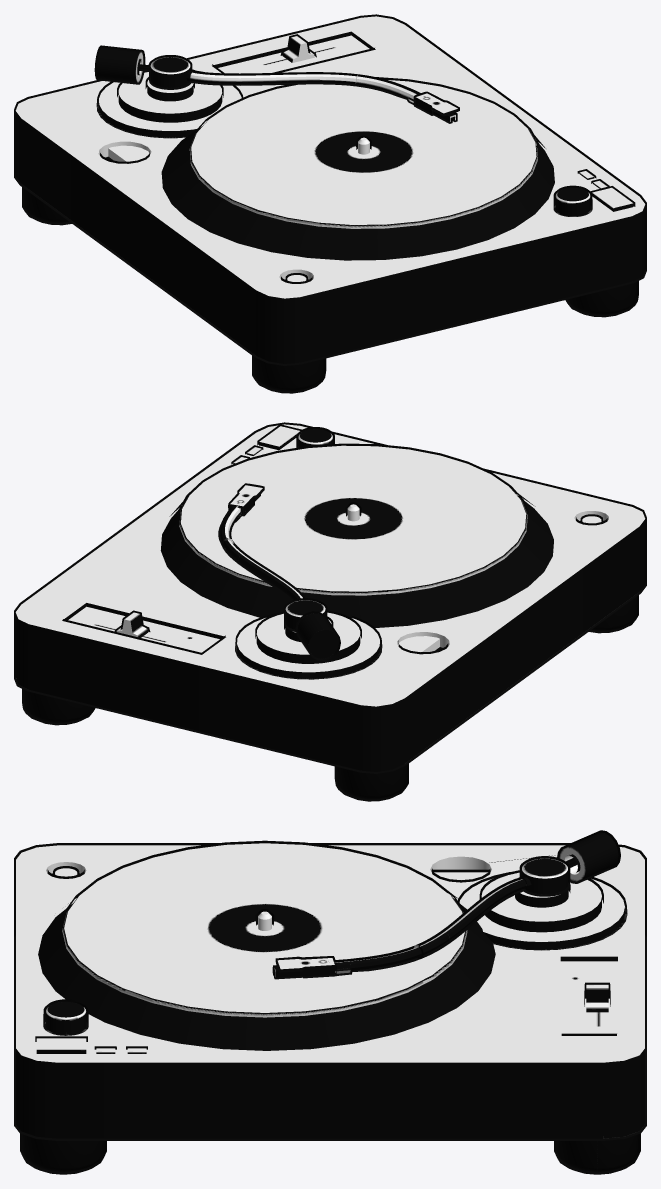
Rendered from vinyl_record_player.glb.
3 renders of one model, top to bottom at view 1: azimuth 30°, elevation 25°; view 2: azimuth 150°, elevation 25°; view 3: azimuth 270°, elevation 25°, orthographic. The views are drawn at different scales.
Parts seen in each view (by area): view 1: Circle_0; view 2: Circle_0; view 3: Circle_0.
Boxes of the visible parts, bbox=[...] form: Circle_0: bbox=[14, 14, 646, 393]; Circle_0: bbox=[14, 422, 646, 801]; Circle_0: bbox=[14, 830, 646, 1174].
Bounding box in the file's own units: 4.09 × 1.57 × 5.
Materials: 2 (1 with a texture image).
